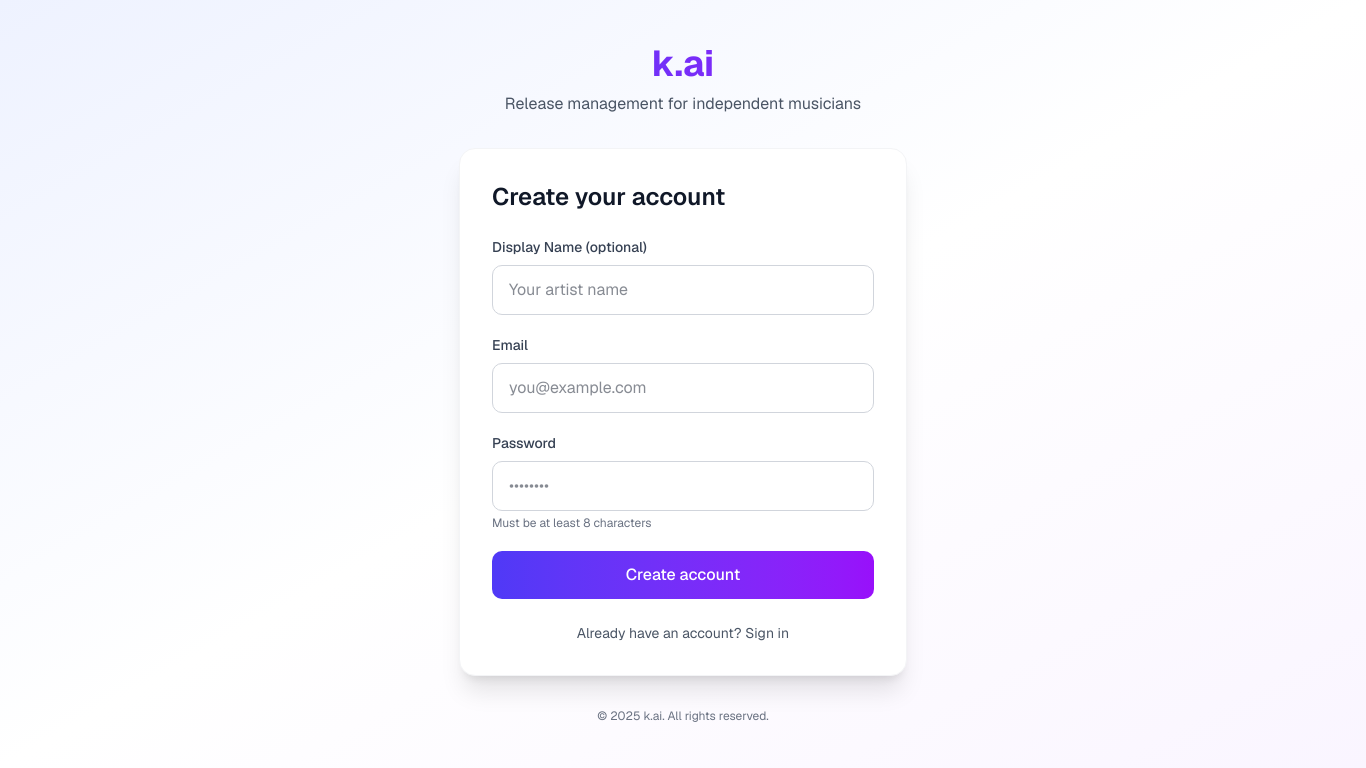
Test: SignupPage › displays error message on signup failure
Type "existing@example.com" into the field with placeholder "you@example.com" at (683, 388), box [492,363,874,413]
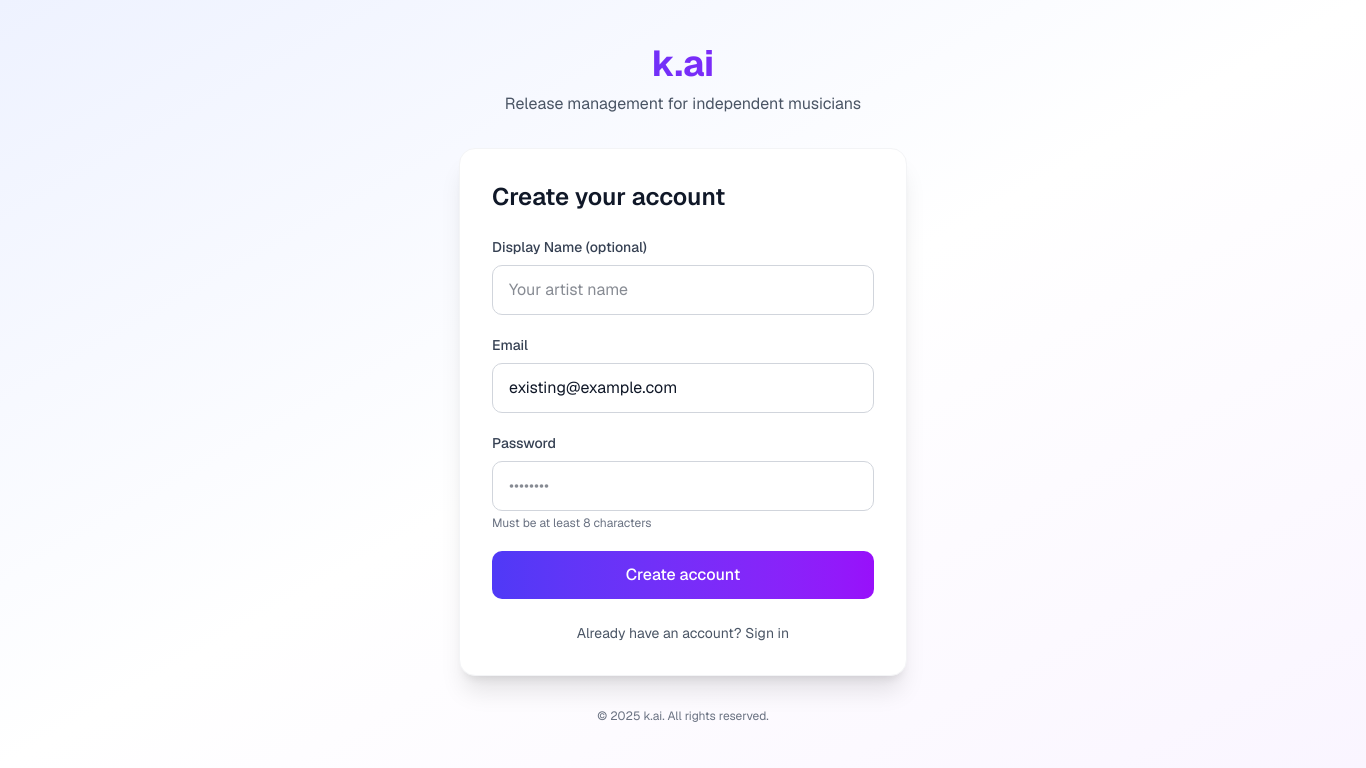
Type "password123" into the password field with placeholder "••••••••" at (683, 486), box [492,461,874,511]
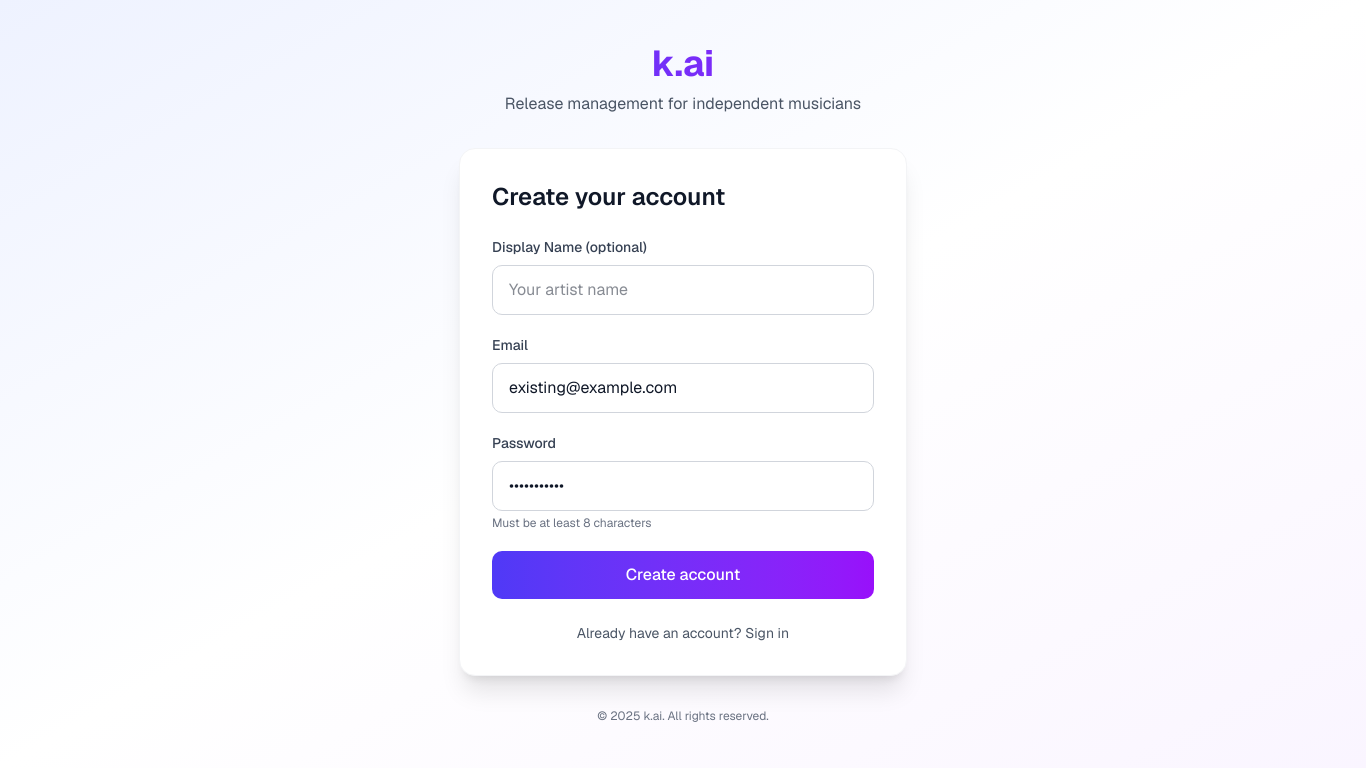
Click the button "Create account" at (683, 575), box [492,551,874,599]
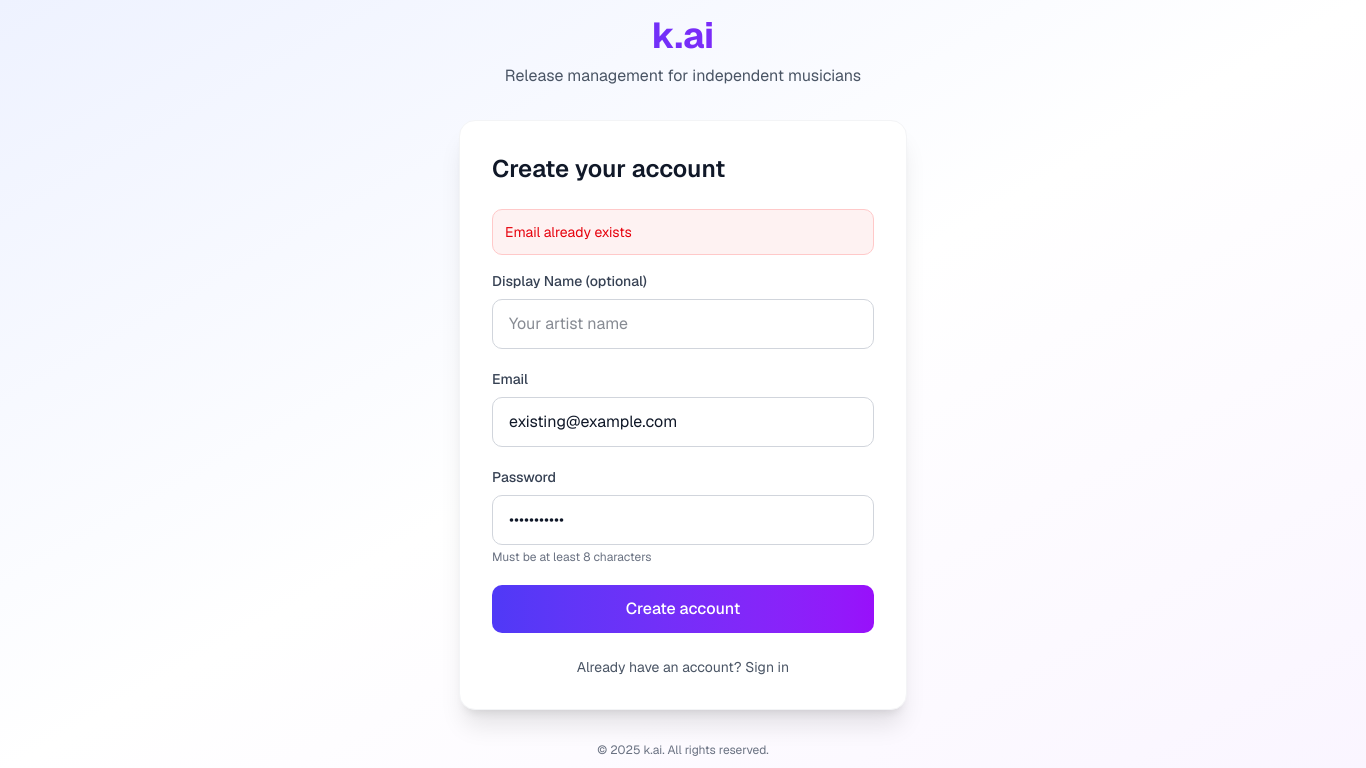
Check: the text "Email already exists" is shown, box [492,209,874,255]
